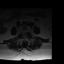CCS_stenosis: (24, 32, 25, 37)
LFS_severe_stenosis: (27, 30, 28, 35)
LLS_normal: (25, 32, 27, 37)
RFS_normal: (21, 31, 22, 35)
RLS_normal: (22, 32, 24, 37)
